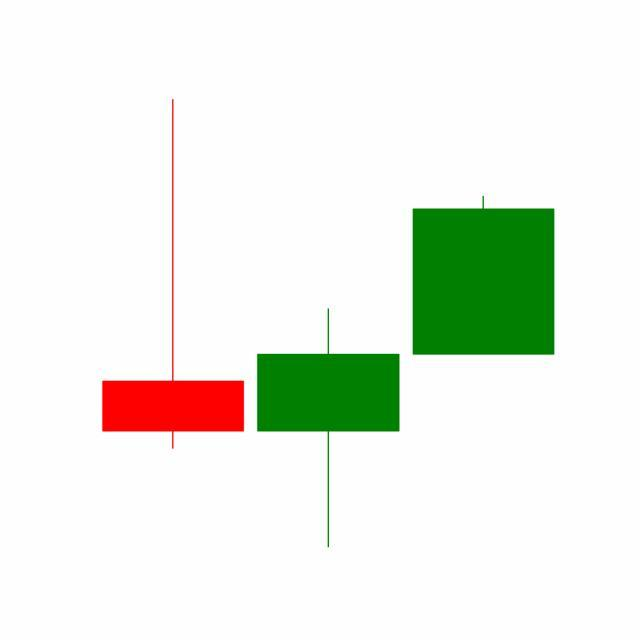Hammer: (250, 306, 407, 551)
